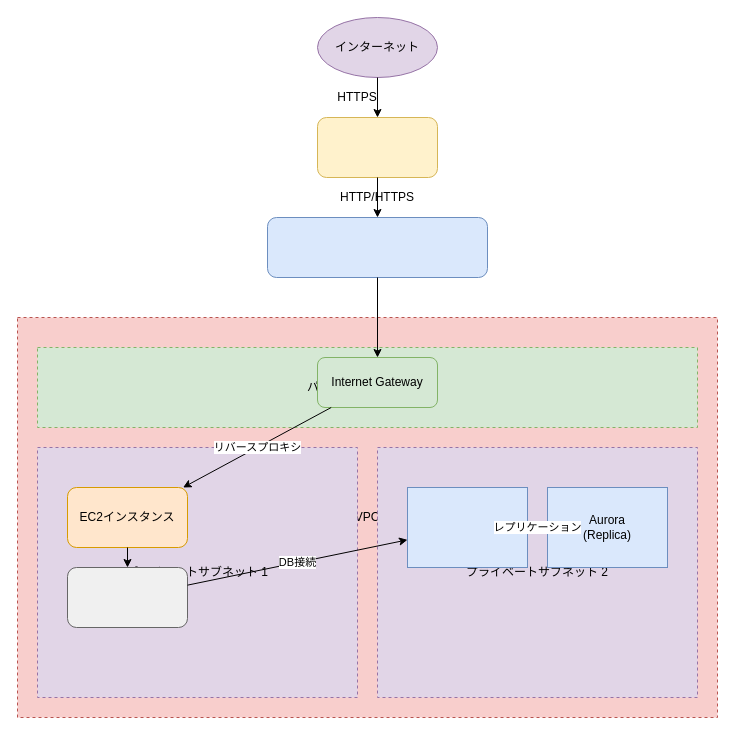
This 735x735 diagram has some shape labels left out. Each missing label, with the centre of its shape:
Application Load Balancer (ALB): pixel 377 247
Aurora (Primary): pixel 467 527
AWS WAF: pixel 377 147
Docker WEBサーバー: pixel 127 597
